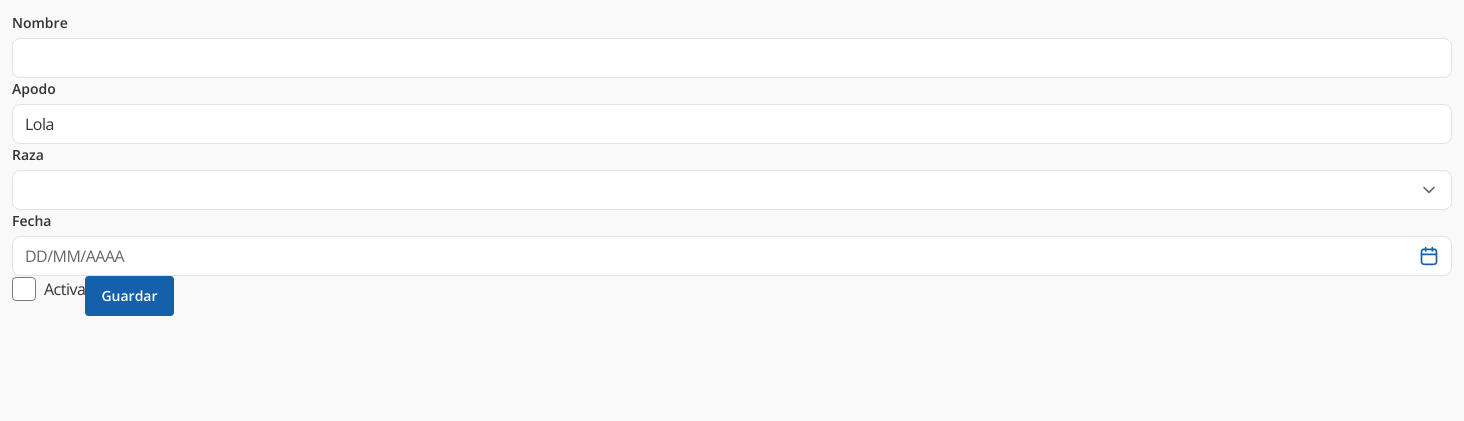
FormField › passes literal messages through
Clear the field labelled "Apodo": (732,124) x1=25 y1=105 x2=1439 y2=143
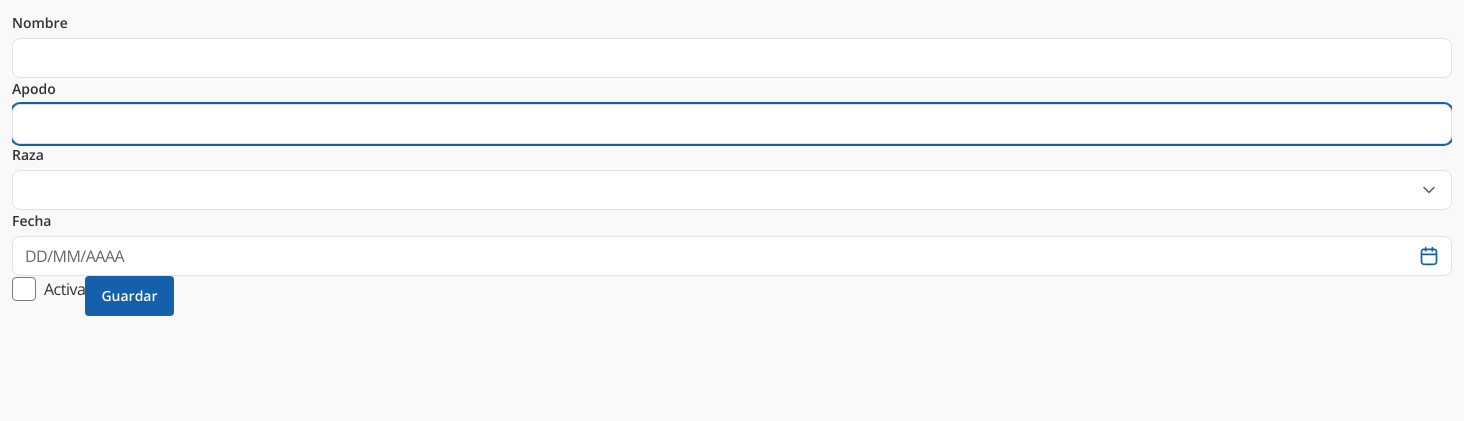
Click the button "Guardar": (129,296) x1=85 y1=276 x2=174 y2=316
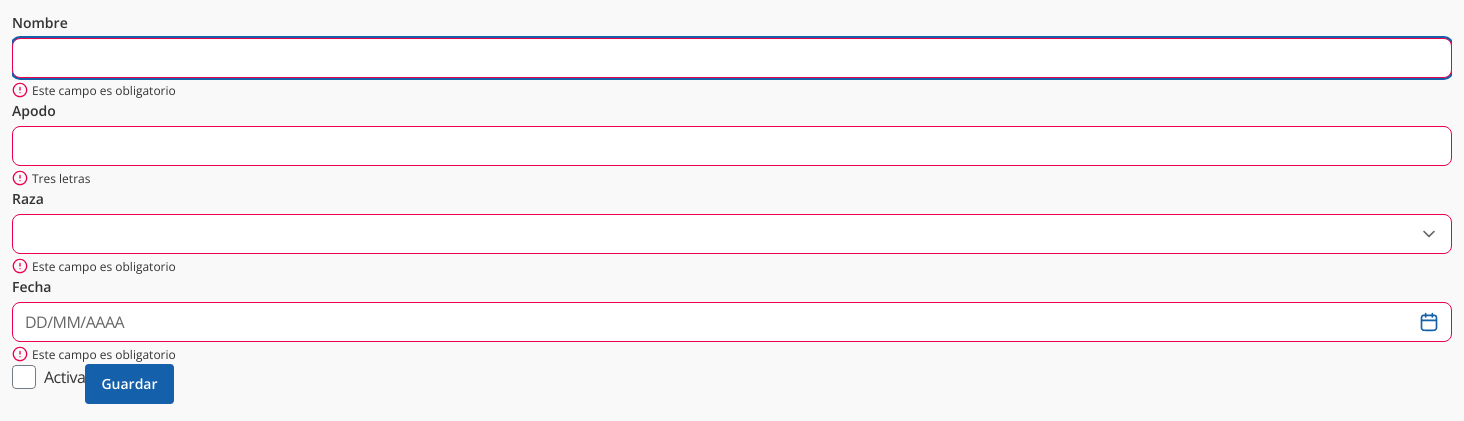
expect the text "Tres letras" is shown: met, box x1=12 y1=170 x2=90 y2=187
